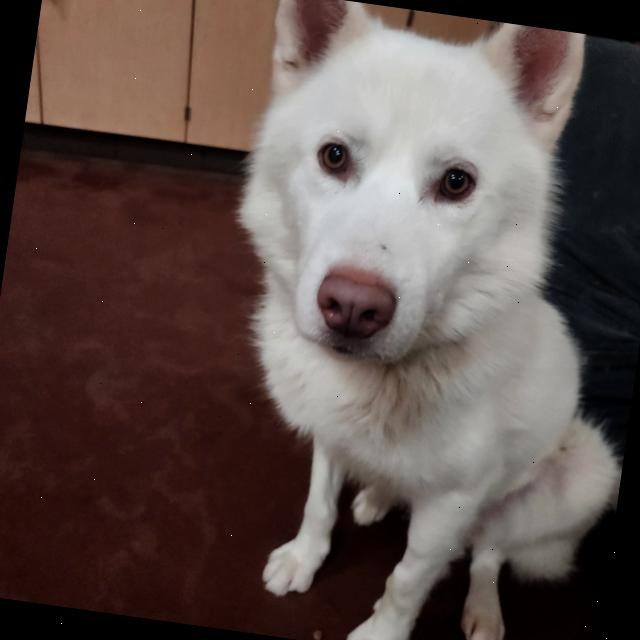siberian_husky_dog: (212, 0, 603, 401)
